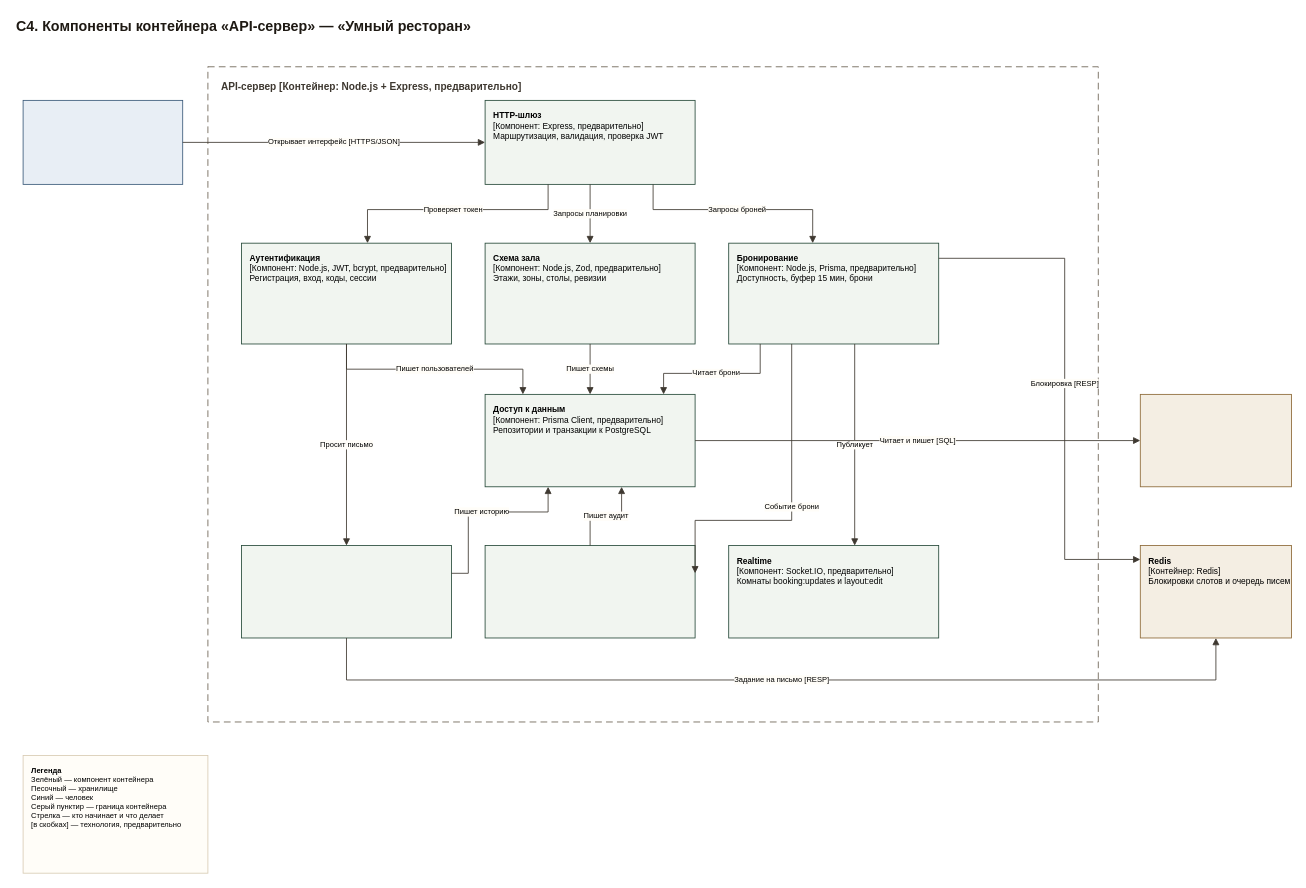
Some shapes in this 1306 by 888 pixel diagram are drawn without their labels. The centre of each missing label's shape, as x and y in pixels:
PostgreSQL [Контейнер: PostgreSQL + Prisma] Схемы, брони, сессии, коды: [1215,440]
Аудит [Компонент: Node.js, предварительно] Пишет действия персонала и гостей: [589,591]
Веб-клиент [Контейнер: React 19 + TypeScript] Интерфейсы гостя и персонала: [102,142]
Уведомления [Компонент: Node.js, предварительно] Ставит письма в очередь Redis: [346,591]
